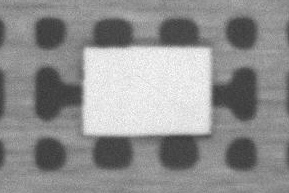DIE_CRACK: (205, 50, 289, 80)
